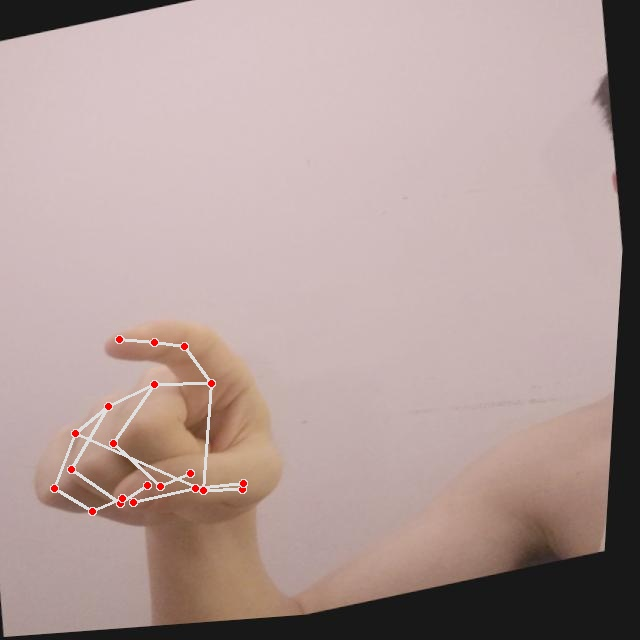Z: (10, 294, 311, 567)
